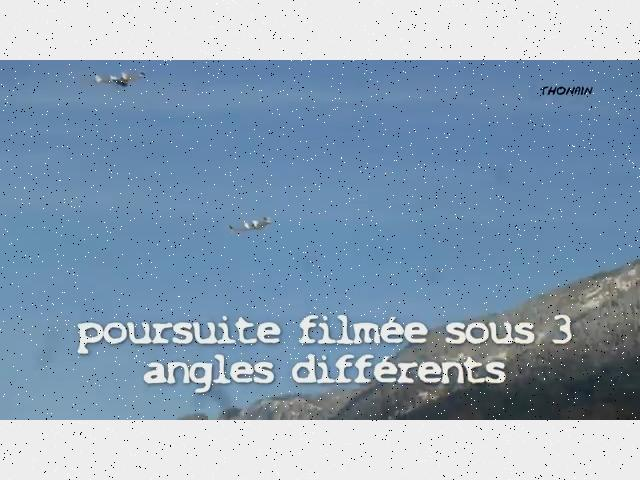Anti-Drone: (229, 217, 271, 231)
